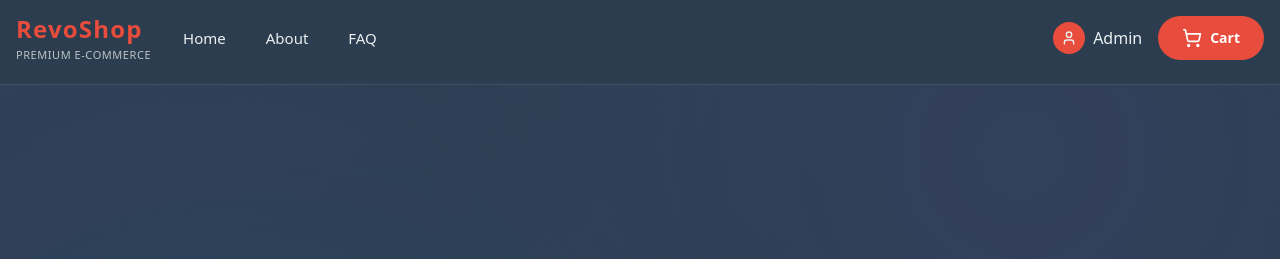
Test: Header › shows admin dashboard link for admin users
The image size is (1280, 259).
What coordinates should you click on to do the following:
click the button "Admin"
I would click on:
 (1098, 38)
Its box is [1053, 22, 1142, 54].
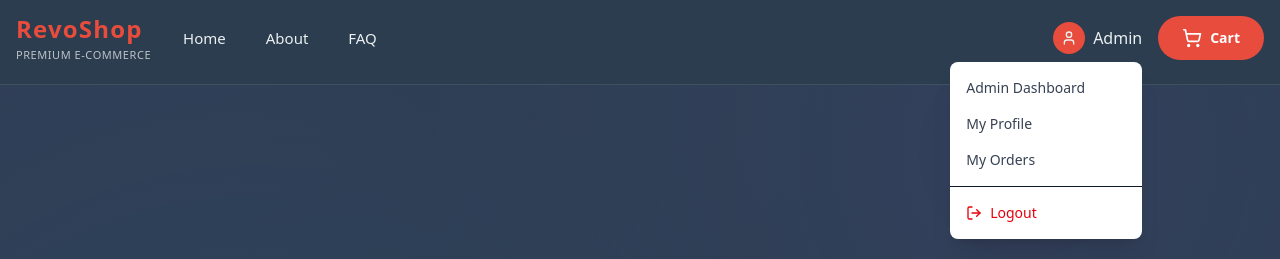
Now the link "Admin Dashboard" is shown, box [966, 78, 1085, 97]
